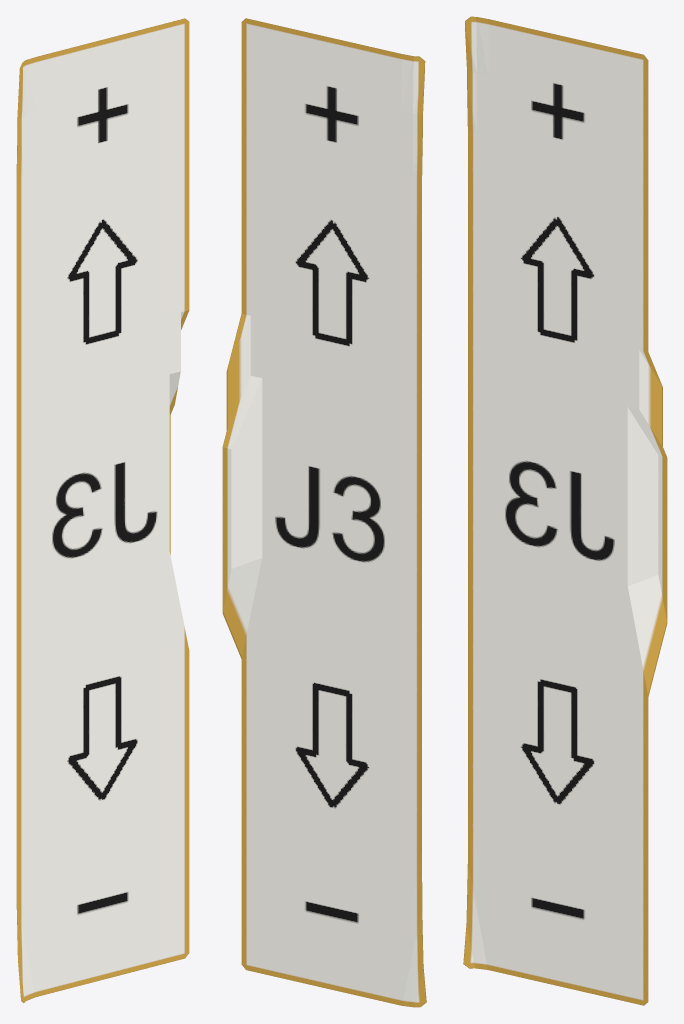
The model's file is J3_sticker_other_active.glb.
3 renders of one model, left to right at view 1: azimuth 30°, elevation 25°; view 2: azimuth 150°, elevation 25°; view 3: azimuth 330°, elevation 25°, orthographic.
Size of the model in its own units: 0.012 by 0.06 by 0.00318.
Materials: 1 (1 with a texture image).
